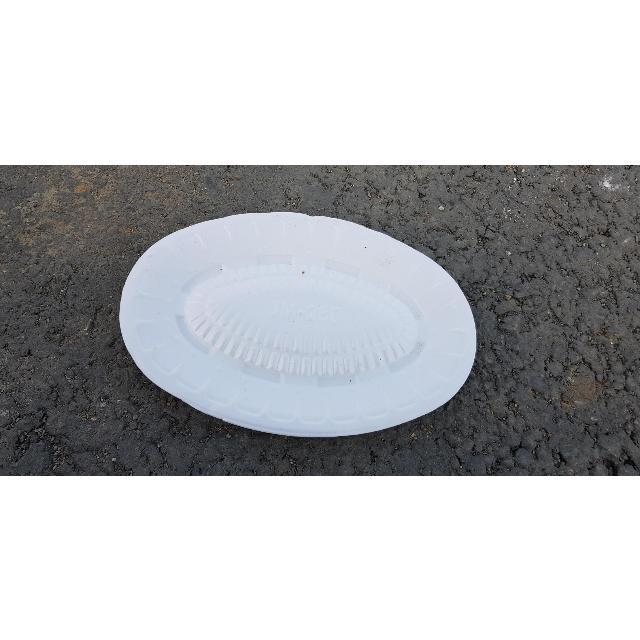Recipiente plastico: (120, 212, 476, 436)
